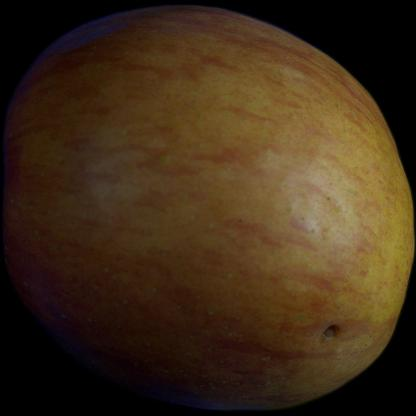defect: (300, 278, 370, 366)
